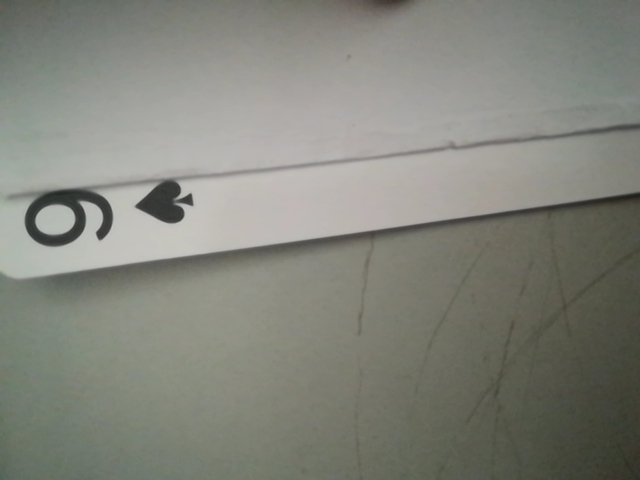ht 9: (6, 170, 203, 265)
